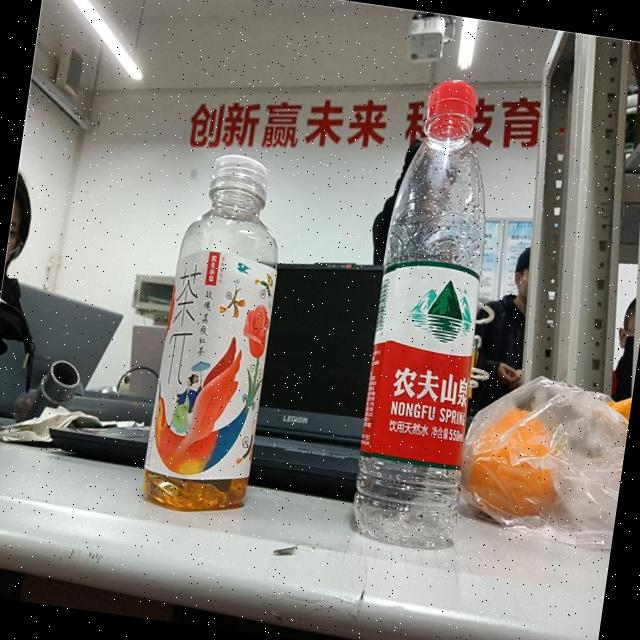orange-peel: (454, 373, 630, 533), (459, 398, 570, 524)
